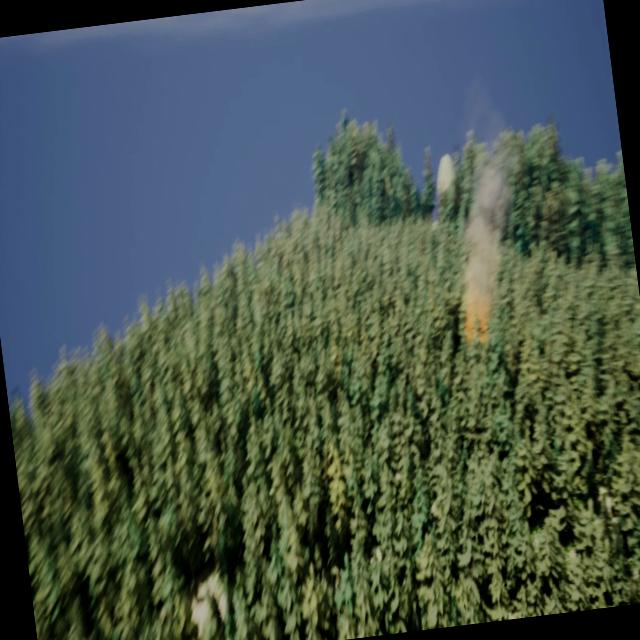smoke: (440, 146, 536, 340)
